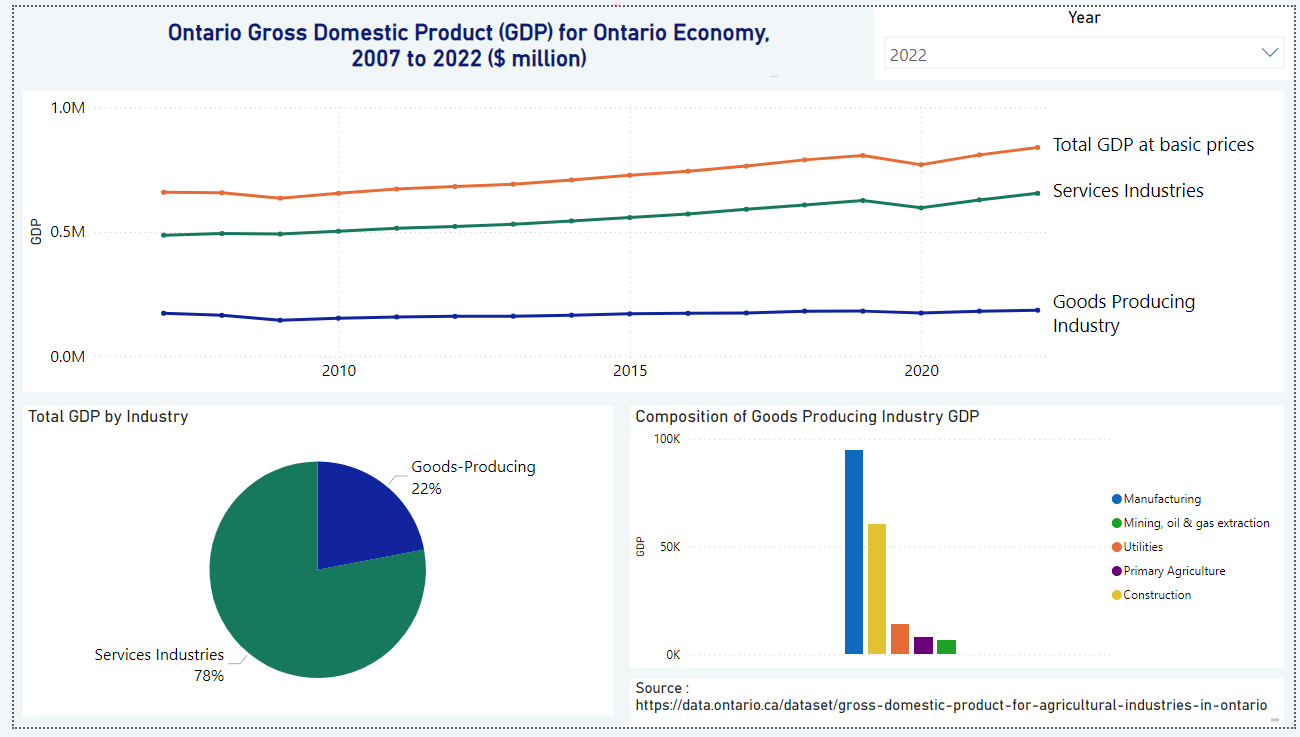

Layout of this report page (visuals, bound fields, positions):
{"tool":"powerbi","page":{"name":"Page 1","canvas":[1280,720],"ordinal":0},"visuals":[{"type":"lineChart","title":"GDP over the years","fields":{"Category":["Table 1 (English).Year"],"Y":["Sum(Table 1 (English).Goods-Producing Industries b (11-33))","Sum(Table 1 (English).Services Industries (41-91))","Sum(Table 1 (English).Overall Economy (total GDP at basic prices a))"]},"box":[9.1,84.1,1260.8,301.6],"z":0},{"type":"pieChart","title":"Total GDP by Industry","fields":{"Y":["Sum(Table 1 (English).Goods-Producing Industries b (11-33))","Sum(Table 1 (English).Services Industries (41-91))"]},"box":[9.1,398.7,590.3,309.4],"z":1000},{"type":"textbox","title":"Ontario Gross Domestic Product (GDP) for Ontario Economy, 2007 to 2022 ($ million)","box":[141.9,10.7,627,63.2],"z":2000},{"type":"textbox","title":"Source : https://data.ontario.ca/dataset/gross-domestic-product-for-agricultural-industries-in-ontario","box":[616.2,671.8,653.7,47.9],"z":3000},{"type":"clusteredColumnChart","title":"Composition of Goods Producing Industry GDP","fields":{"Y":["Sum(Table 1 (English).Manufacturing (31-33))","Sum(Table 1 (English).Mining and oil and gas extraction (21))","Sum(Table 1 (English).Utilities (other than communications) (22))","Sum(Table 1 (English).Primary Agriculture  (111-112, 1151-1152))","Sum(Table 1 (English).Construction (23))"]},"box":[616.2,398.7,653.7,262.8],"z":4000},{"type":"slicer","title":"Year","fields":{"Values":["Table 1 (English).Year"]},"box":[859.5,0,420.7,72.5],"z":5000}]}

Visuals, with their boxes in screenshot pixels (x1, y1, x2, y2), scaled from the page's 1280x720 canvas onto the 1300x737 screenshot:
"GDP over the years" lineChart: 9, 86, 1290, 395
"Total GDP by Industry" pieChart: 9, 408, 609, 725
"Ontario Gross Domestic Product (GDP) for Ontario Economy, 2007 to 2022 ($ million)" textbox: 144, 11, 781, 76
"Source : https://data.ontario.ca/dataset/gross-domestic-product-for-agricultural-industries-in-ontario" textbox: 626, 688, 1290, 736
"Composition of Goods Producing Industry GDP" clusteredColumnChart: 626, 408, 1290, 677
"Year" slicer: 873, 0, 1299, 74
